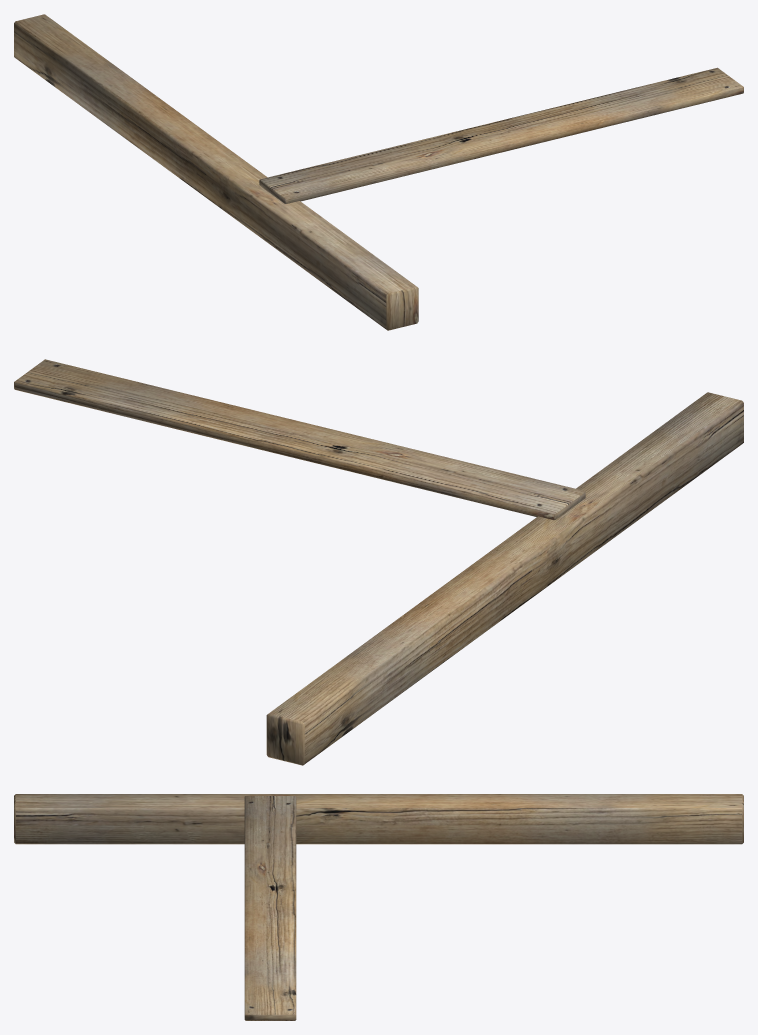
File: Plank.fbx
3 views of the same model, one above another, from view 1: azimuth 30°, elevation 25°; view 2: azimuth 150°, elevation 25°; view 3: azimuth 270°, elevation 25° (orthographic). The views are drawn at different scales.
Parts seen in each view (by area): view 1: Beam, Plank; view 2: Beam, Plank; view 3: Beam, Plank.
Part boxes in pixels (box(x1,y1,x2,y2)): Beam: box(14, 14, 418, 330); Plank: box(259, 67, 743, 203); Beam: box(266, 392, 743, 765); Plank: box(14, 359, 585, 519); Beam: box(14, 794, 743, 844); Plank: box(244, 796, 296, 1020).
Size of the model in its own units: 2071 by 178 by 2822.
